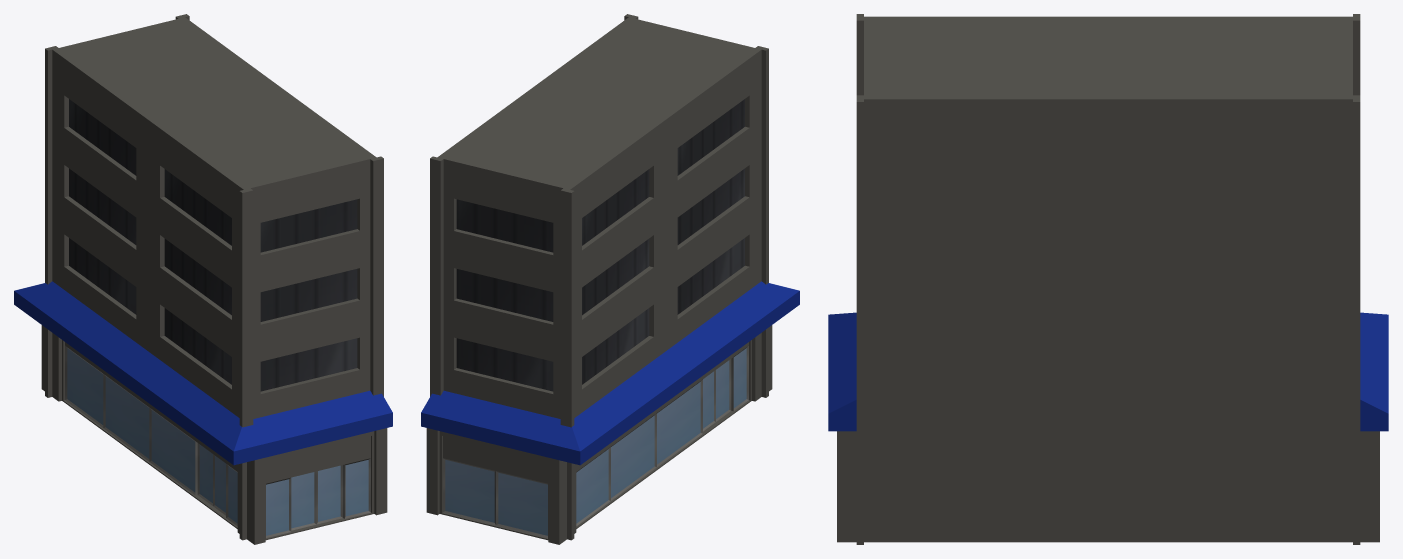
Rendered from Bld_Building_IB.fbx.
3 views of the same model, side by side, from view 1: azimuth 30°, elevation 25°; view 2: azimuth 150°, elevation 25°; view 3: azimuth 270°, elevation 25° (orthographic). The views are drawn at different scales.
Parts seen in each view (by area): view 1: Bld_Building_IB; view 2: Bld_Building_IB; view 3: Bld_Building_IB.
Boxes of the visible parts, bbox=[...] form: Bld_Building_IB: bbox=[14, 14, 392, 544]; Bld_Building_IB: bbox=[421, 14, 799, 544]; Bld_Building_IB: bbox=[828, 14, 1388, 544].
Bounding box in the file's own units: 730 × 1500 × 1719.
